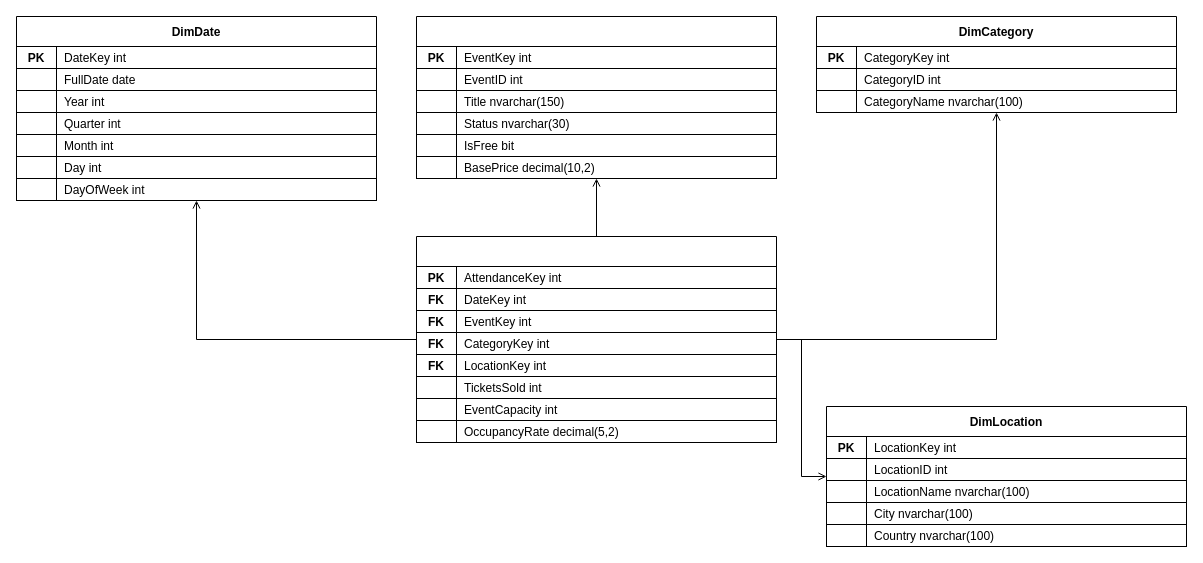
Image size: 1203x563. Some labels were removed from this diagram. The box of each missing label's shape, as (x1, y1, x2, y2) in pixels:
DimEvent: (416, 16, 776, 178)
Fact_Event_Attendance: (416, 236, 776, 442)
